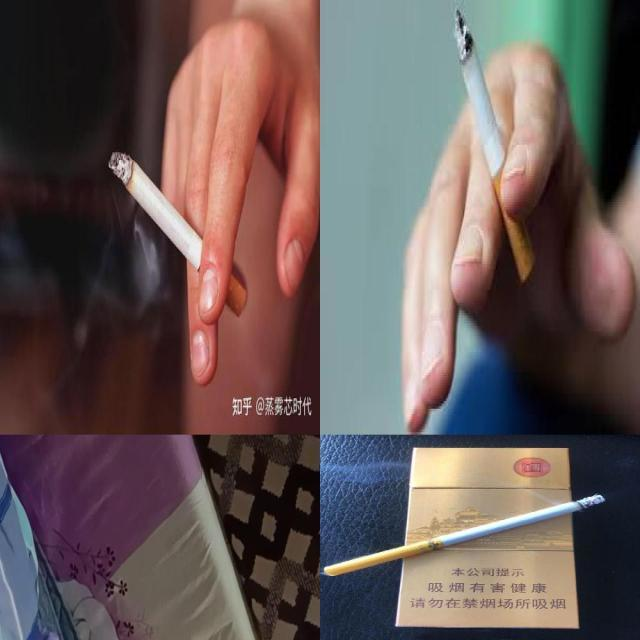smoking: (109, 150, 248, 318), (324, 494, 606, 576), (456, 8, 536, 286)
